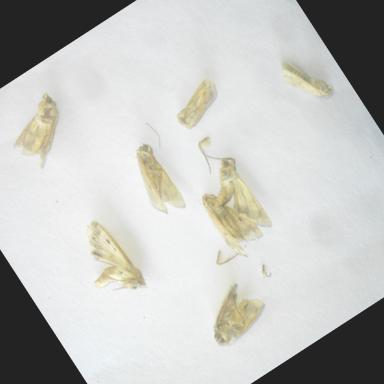abw: (188, 143, 283, 250), (61, 210, 154, 314), (0, 85, 86, 179), (190, 171, 274, 266), (190, 268, 278, 354), (116, 134, 194, 226), (272, 41, 344, 120), (160, 68, 234, 140)
